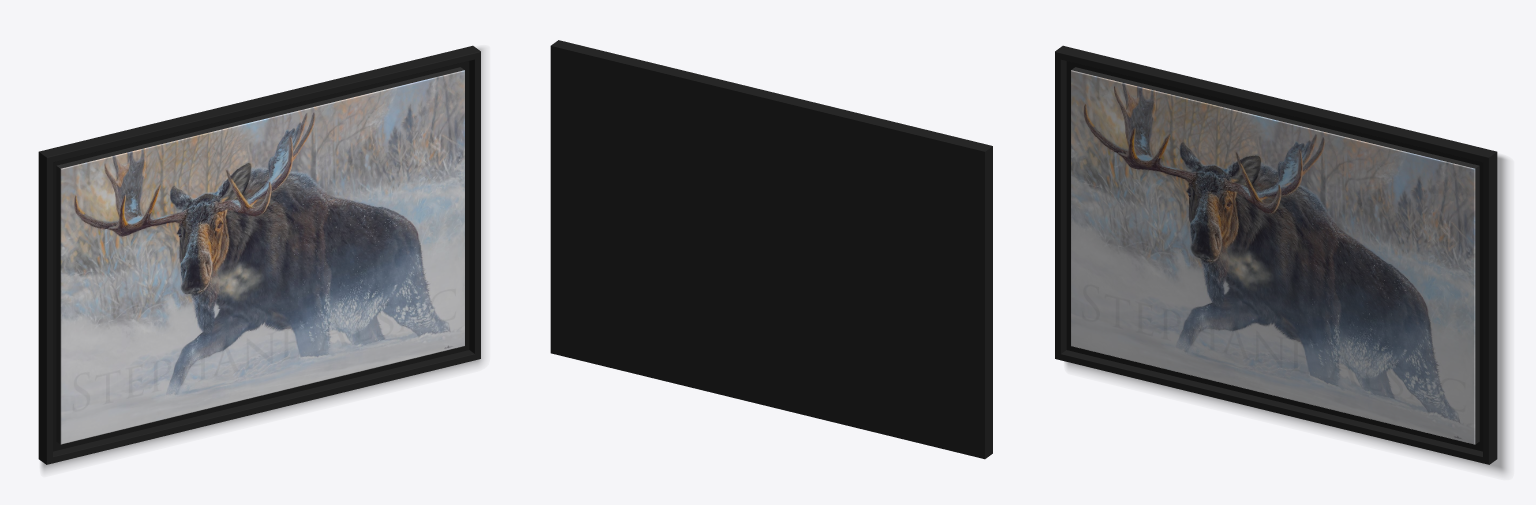
The model's file is tableau-elan-orignal-grand-05b66c9f.glb.
The picture shows the model from 3 angles, left to right: view 1: azimuth 30°, elevation 25°; view 2: azimuth 150°, elevation 25°; view 3: azimuth 330°, elevation 25°; orthographic projection.
Visible parts, largest first — view 1: Painting; view 2: Painting; view 3: Painting.
Part boxes in pixels (x1=…): Painting: x1=38, y1=45, x2=482, y2=470; Painting: x1=550, y1=40, x2=992, y2=459; Painting: x1=1055, y1=45, x2=1506, y2=473.
Size of the model in its own units: 1.38 by 0.976 by 0.04.
Materials: 5 (3 with a texture image).
